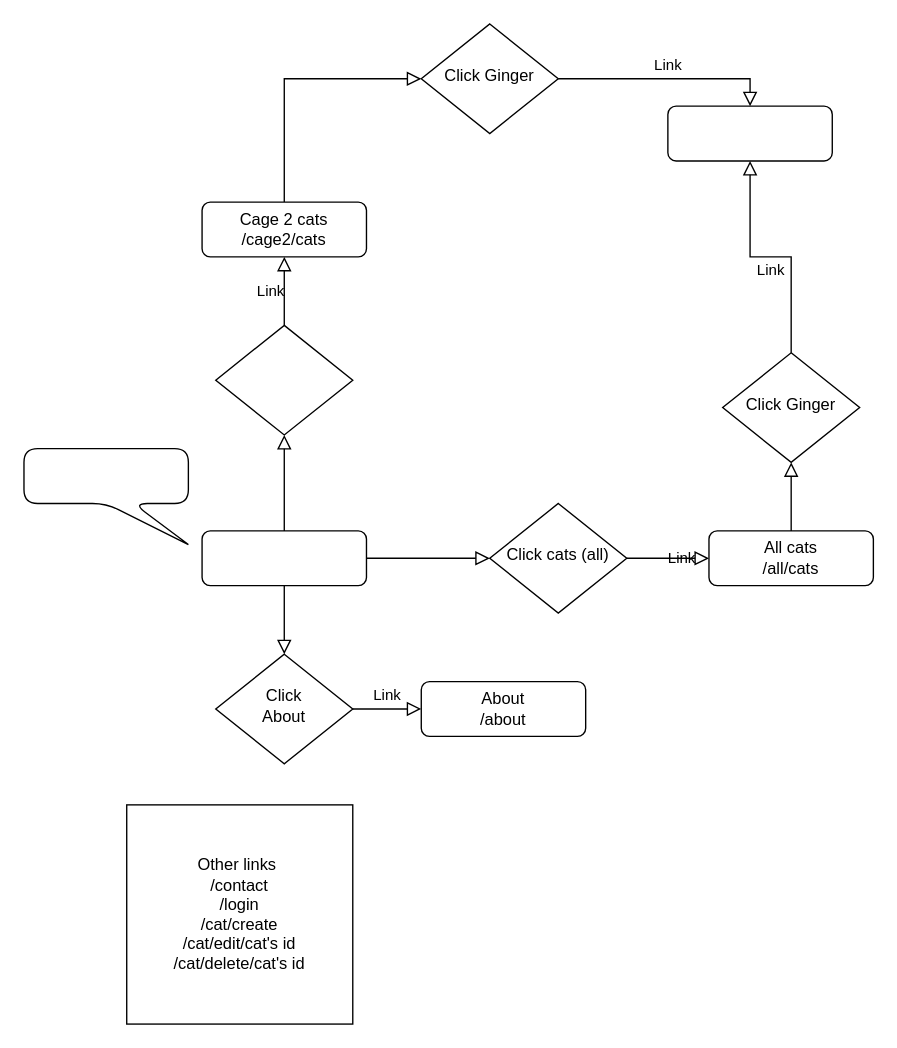
The diagram is 897 pixels wide and 1048 high, and some of its shapes have lost their labels. Each missing label, with the centre of its shape:
"Click cage 2" goes at point 283,379.
"Ginger kitty /cat/ginger's id" goes at point 749,133.
"Homepage /home" goes at point 283,558.
"Start here!" goes at point 105,496.
